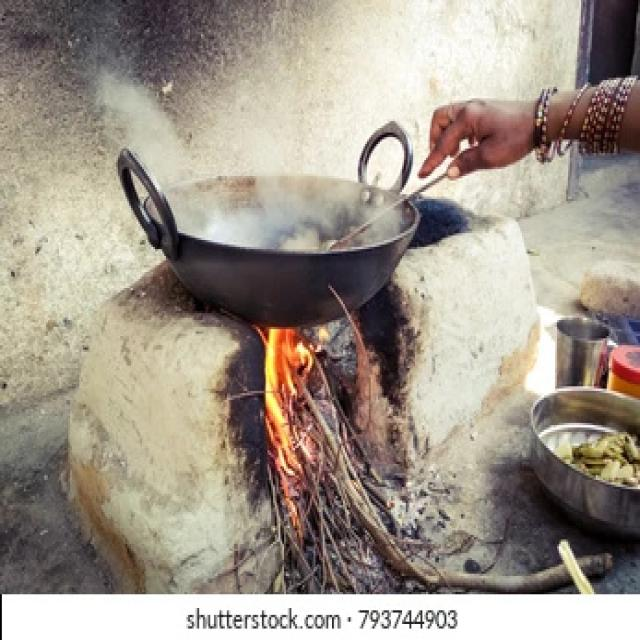fire: (251, 327, 332, 545)
